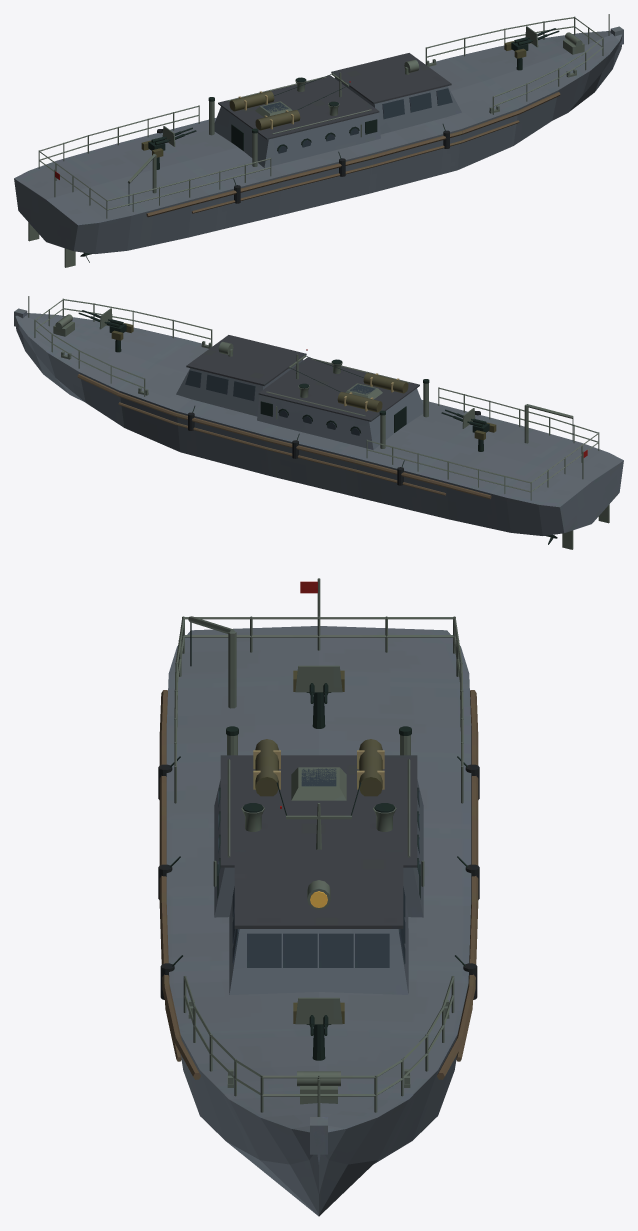
File: usaaf-63ft-rescue-boat.glb
3 views of the same model, one above another, from view 1: azimuth 30°, elevation 25°; view 2: azimuth 150°, elevation 25°; view 3: azimuth 270°, elevation 25° (orthographic). The views are drawn at different scales.
Visible parts, largest first — view 1: Hull, usaaf-63ft-rescue-boat_boot; view 2: Hull, usaaf-63ft-rescue-boat_boot; view 3: Hull, usaaf-63ft-rescue-boat_boot.
Boxes of the visible parts, x1,y1,x2,y2 form: Hull: (14,30,622,253); usaaf-63ft-rescue-boat_boot: (38,14,609,218); Hull: (15,313,623,535); usaaf-63ft-rescue-boat_boot: (27,296,599,500); Hull: (166,626,471,1216); usaaf-63ft-rescue-boat_boot: (158,578,479,1116).
Size of the model in its own units: 19.2 by 3.6 by 4.64.
1 material, 1 textured.
